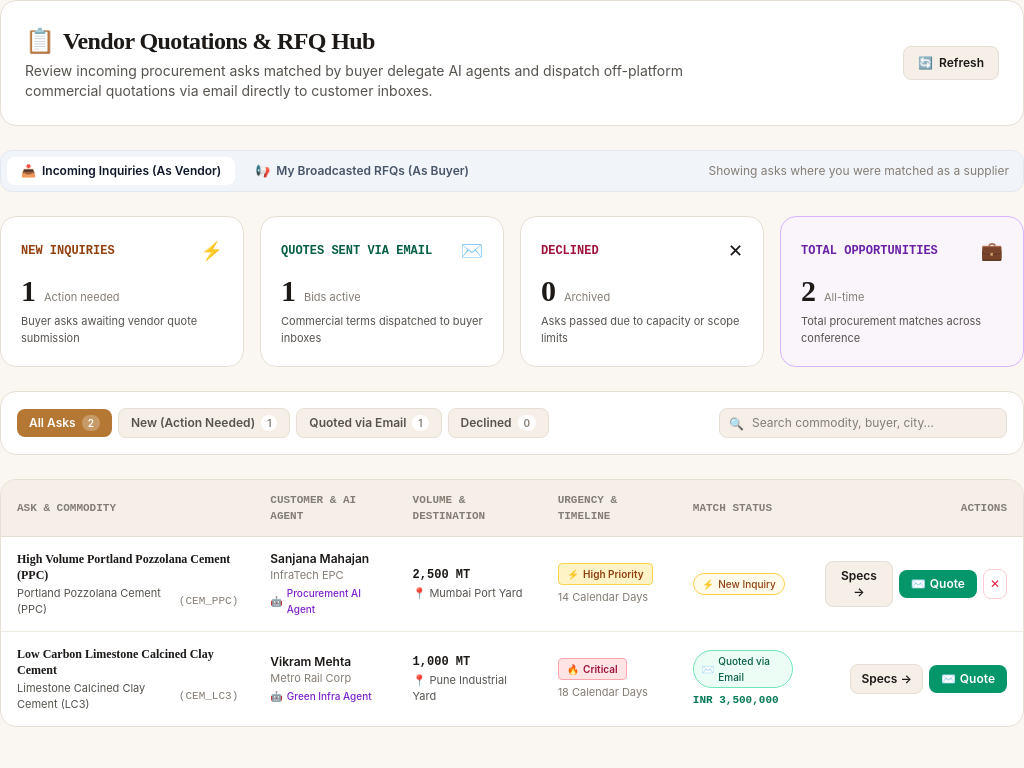
Test: Vendor Quotes Hub & Inquiries Portal (Quote Subphase 5) › opens send quote email modal and allows switching to live email preview tab
The width and height of the screenshot is (1024, 768).
Click the text "Quote" in the row of "InfraTech EPC": (947, 584) [930, 576, 965, 592]
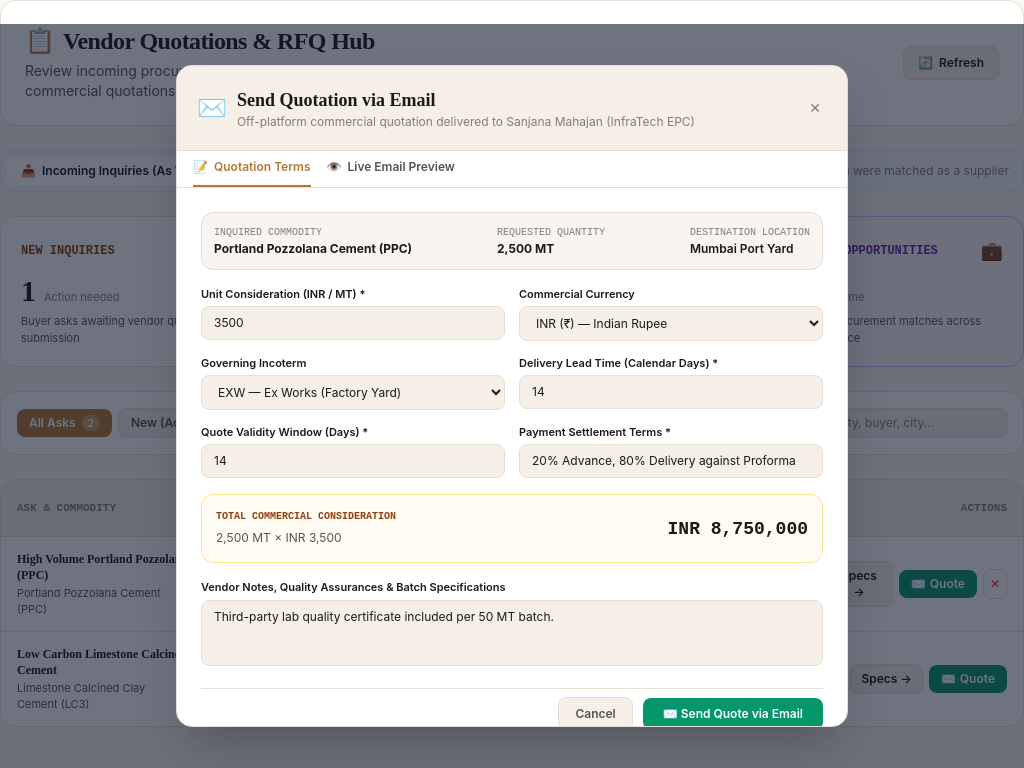
Check: the element with test id "send-quote-email-modal" is shown
Check: the text "Quotation Terms" is shown, box [214, 159, 310, 175]
Check: the text "Live Email Preview" is shown
Switch to preview tab
Click the text "Live Email Preview": (401, 167) [348, 159, 455, 175]
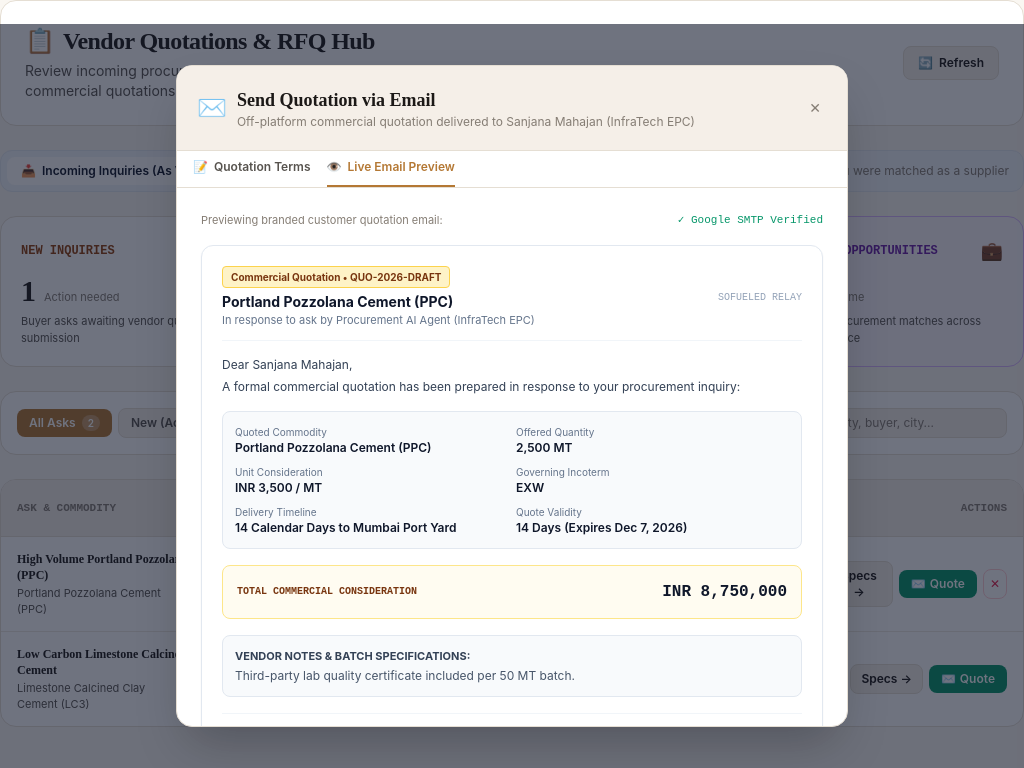
Check: the text "Commercial Quotation • QUO-2026-DRAFT" is shown, box [222, 266, 450, 288]
Check: the text "✓ Google SMTP Verified" is shown, box [678, 212, 823, 229]
